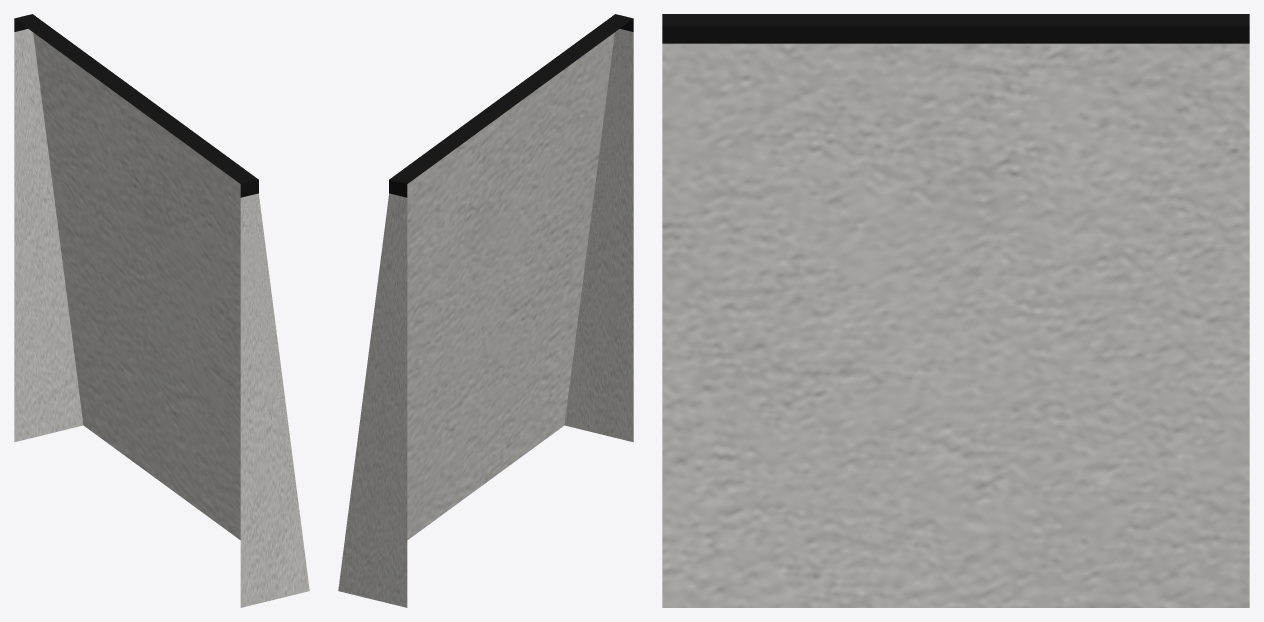
The model's file is wallHelper4.glb.
3 views of the same model, side by side, from view 1: azimuth 30°, elevation 25°; view 2: azimuth 150°, elevation 25°; view 3: azimuth 270°, elevation 25° (orthographic). The views are drawn at different scales.
Parts seen in each view (by area): view 1: Cube, Cube.001; view 2: Cube, Cube.001; view 3: Cube, Cube.001.
Boxes of the visible parts, x1=… form: Cube: x1=14, y1=29, x2=309, y2=607; Cube.001: x1=14, y1=14, x2=258, y2=197; Cube: x1=338, y1=29, x2=633, y2=607; Cube.001: x1=389, y1=14, x2=633, y2=197; Cube: x1=662, y1=43, x2=1249, y2=607; Cube.001: x1=662, y1=14, x2=1249, y2=43.
Size of the model in its own units: 0.3534 by 2.07 by 2.
Materials: 2 (1 with a texture image).
